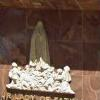Statue: (3, 39, 79, 100)
